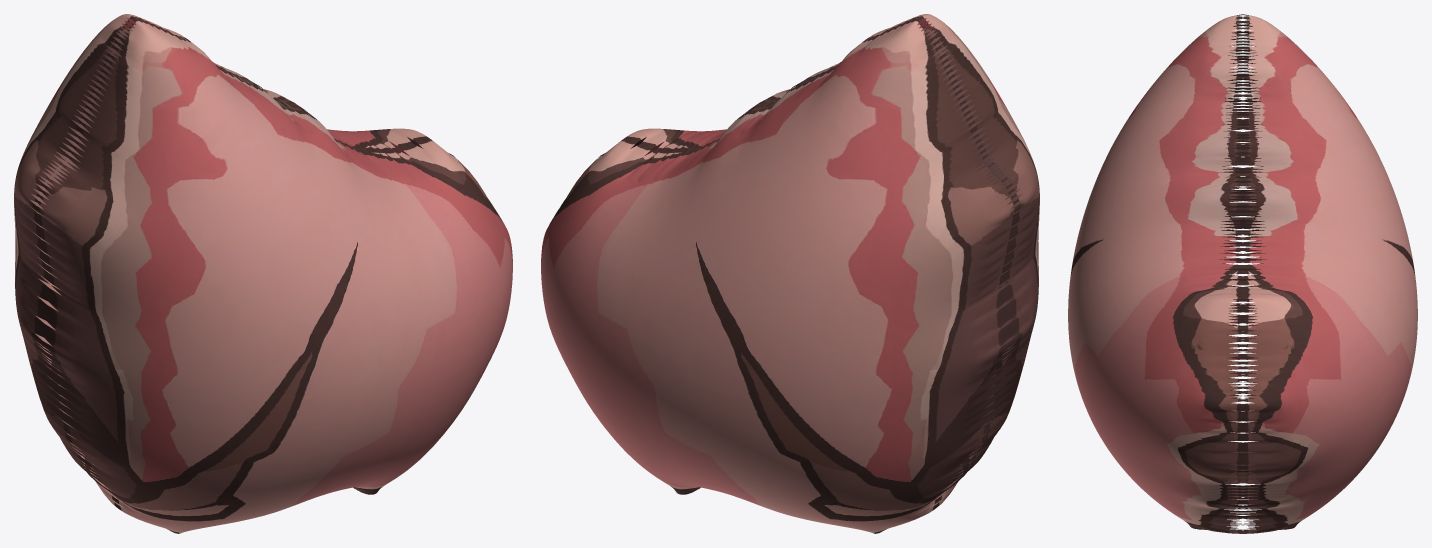
The model's file is fractured_boulder.glb.
3 views of the same model, side by side, from view 1: azimuth 30°, elevation 25°; view 2: azimuth 150°, elevation 25°; view 3: azimuth 270°, elevation 25° (orthographic). The views are drawn at different scales.
Parts seen in each view (by area): view 1: fractured_boulder; view 2: fractured_boulder; view 3: fractured_boulder.
Boxes of the visible parts, <box> form: fractured_boulder: <box>14,14,512,533</box>; fractured_boulder: <box>541,14,1039,533</box>; fractured_boulder: <box>1068,14,1417,533</box>.
Bounding box in the file's own units: 0.9883 × 1.04 × 0.7755.
Materials: 1 (1 with a texture image).
